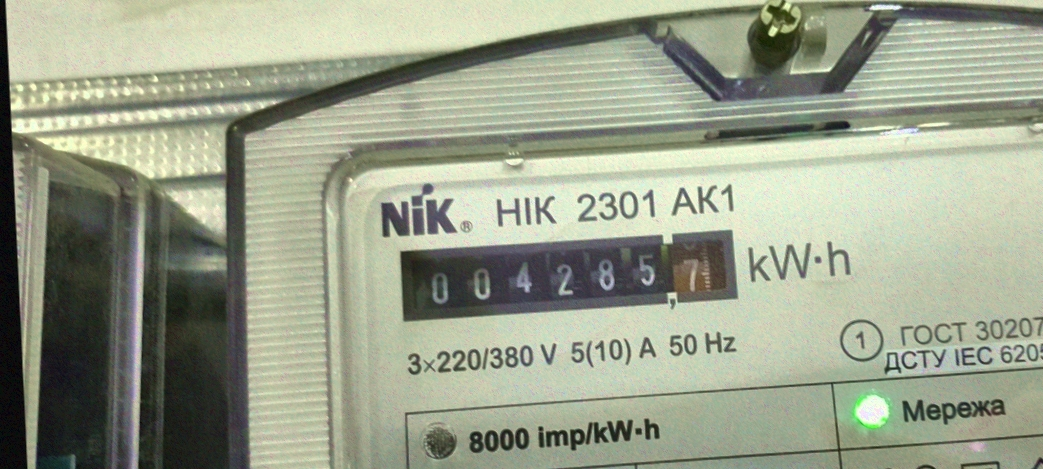0: (470, 263, 493, 301), (428, 267, 450, 304)
2: (553, 259, 574, 296)
4: (514, 258, 532, 293)
5: (634, 249, 657, 286)
7: (680, 255, 701, 292)
8: (594, 254, 616, 292)
screen: (383, 217, 753, 333)
